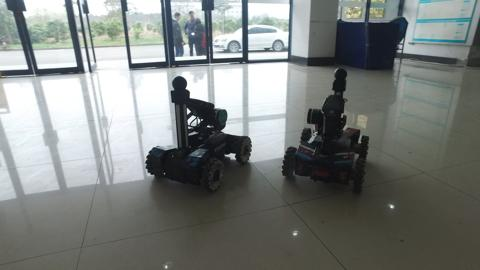chariot: (126, 65, 264, 196), (278, 63, 380, 204)
